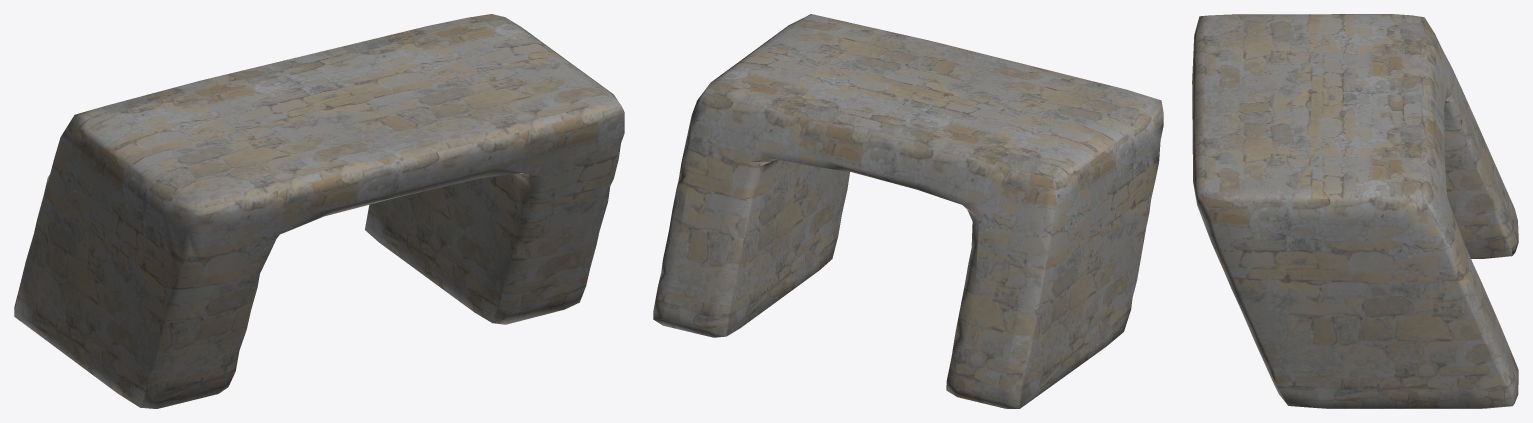
The model's file is Doorway.glb.
The picture shows the model from 3 angles, left to right: view 1: azimuth 30°, elevation 25°; view 2: azimuth 150°, elevation 25°; view 3: azimuth 270°, elevation 25°; orthographic projection. The views are drawn at different scales.
Parts seen in each view (by area): view 1: Doorway; view 2: Doorway; view 3: Doorway.
Boxes of the visible parts, x1,y1,x2,y2 form: Doorway: [14, 14, 624, 408]; Doorway: [653, 14, 1163, 408]; Doorway: [1192, 14, 1518, 408].
Size of the model in its own units: 9.25 by 4.99 by 6.7.
Materials: 1 (1 with a texture image).
